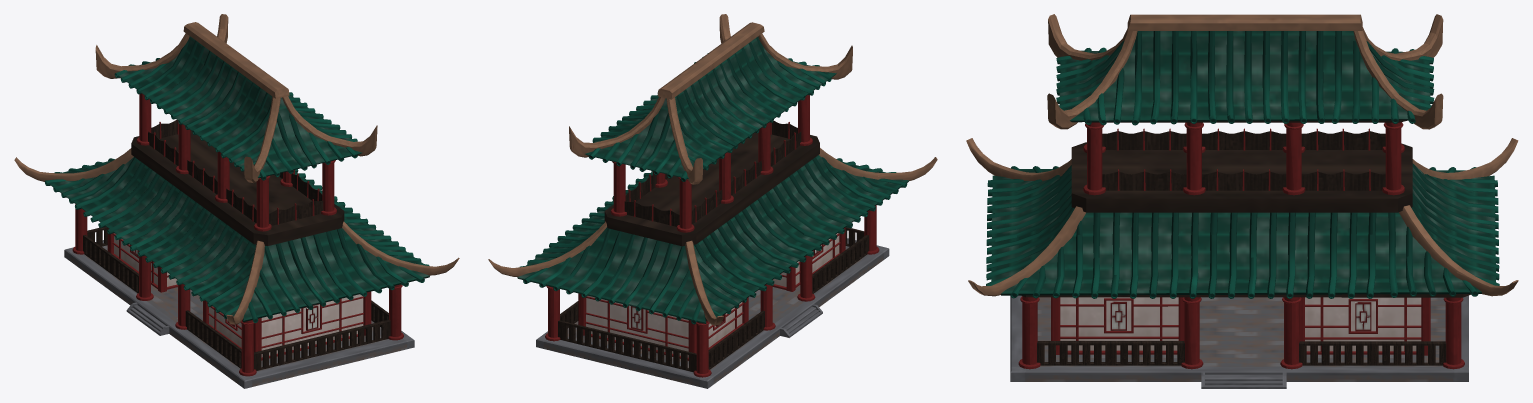
The model's file is Building10.fbx.
3 renders of one model, left to right at view 1: azimuth 30°, elevation 25°; view 2: azimuth 150°, elevation 25°; view 3: azimuth 270°, elevation 25°, orthographic. The views are drawn at different scales.
Parts seen in each view (by area): view 1: Building10_mesh_mesh; view 2: Building10_mesh_mesh; view 3: Building10_mesh_mesh.
Part boxes in pixels (x1,y1,x2,y2): Building10_mesh_mesh: (14,14,459,388); Building10_mesh_mesh: (488,14,937,388); Building10_mesh_mesh: (966,14,1518,388).
Bounding box in the file's own units: 124 × 124 × 200.
Materials: 1 (1 with a texture image).
